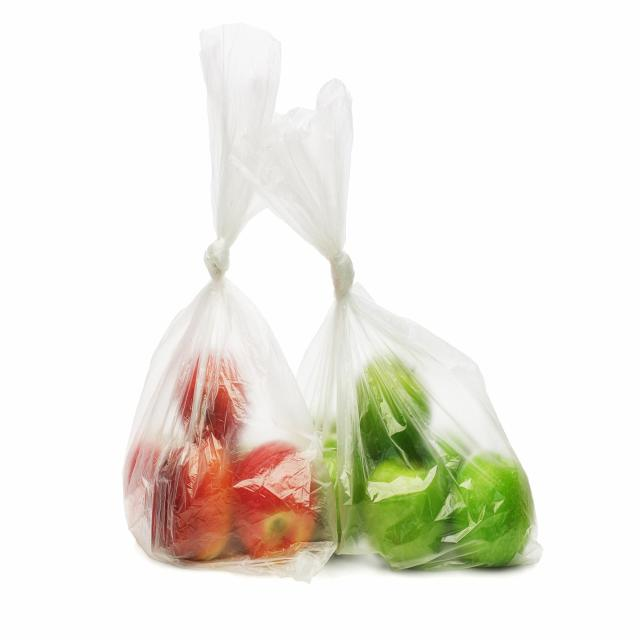plastic_bag: (230, 81, 551, 568), (124, 33, 337, 573)
